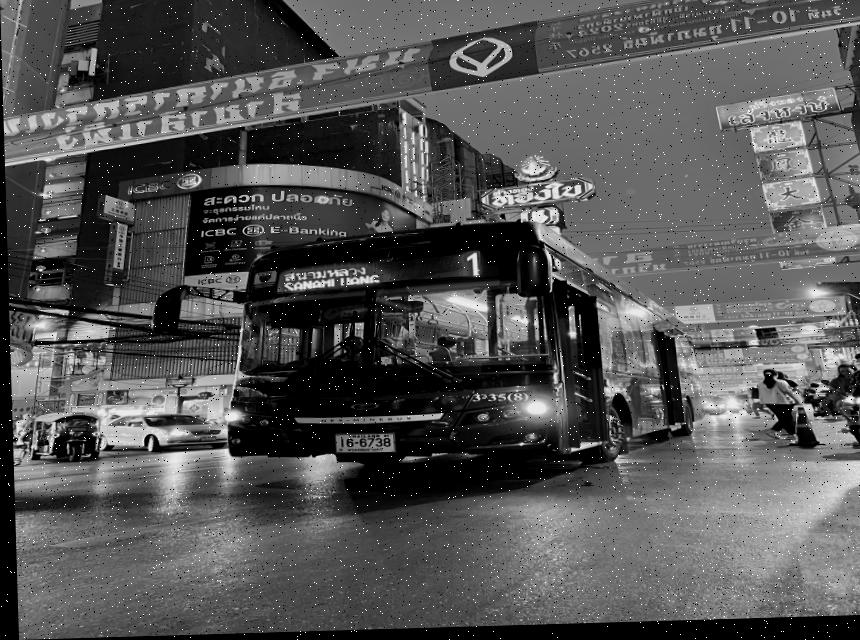Bus Line Number: (436, 244, 509, 287)
Bus Side Number: (463, 392, 527, 406)
Destination Sign: (268, 262, 384, 291)
TSB-Bus: (221, 225, 694, 472)
